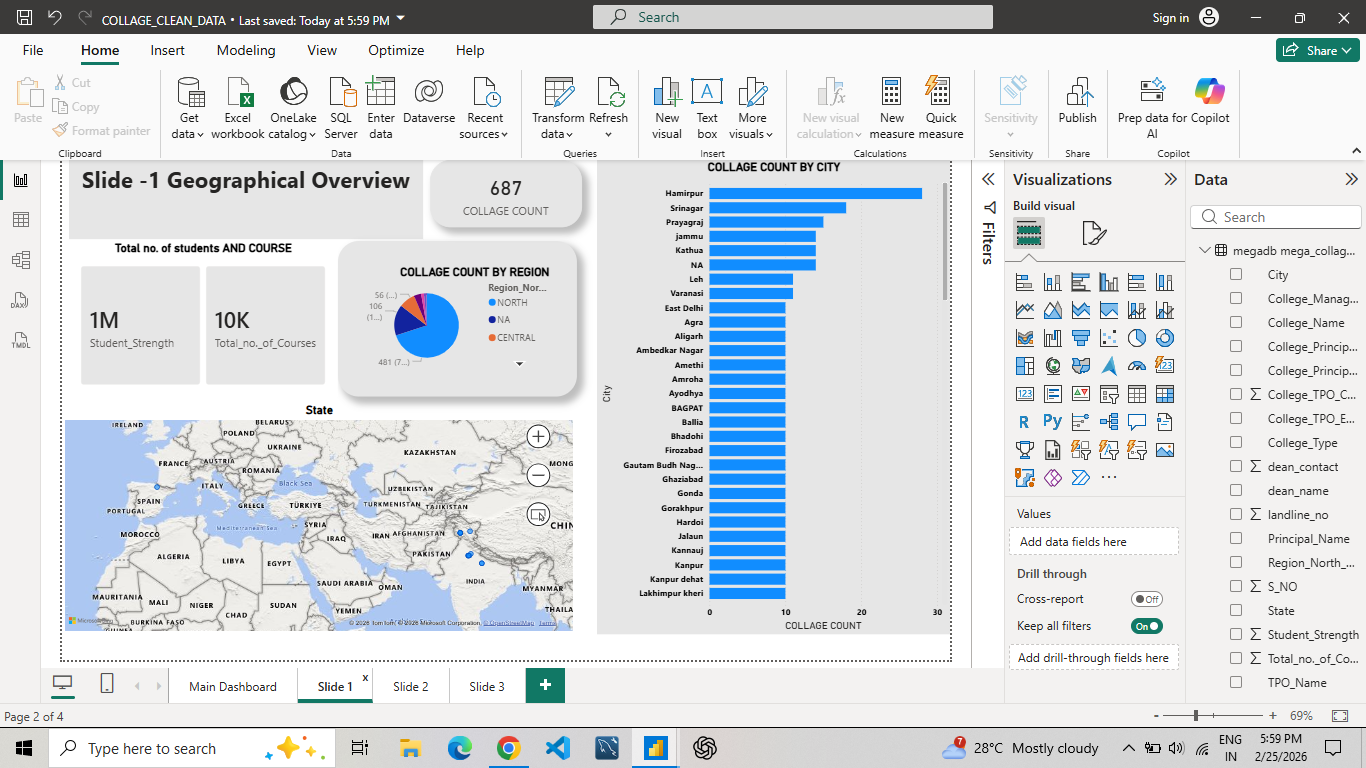

This screenshot's page, from the dashboard's own definition file:
{"tool":"powerbi","page":{"name":"Slide 1","canvas":[1280,720],"ordinal":1},"visuals":[{"type":"textbox","box":[10,0,510,114.3],"z":0},{"type":"barChart","title":"COLLAGE COUNT BY CITY ","fields":{"Category":["megadb mega_collage_data.City"],"Y":["CountNonNull(megadb mega_collage_data.College_Name)"]},"box":[770,0,510,682.9],"z":1000},{"type":"map","fields":{"Category":["megadb mega_collage_data.State"]},"box":[0,350,741.4,332.9],"z":2000},{"type":"pieChart","title":"COLLAGE COUNT BY REGION","fields":{"Category":["megadb mega_collage_data.Region_North_South_East_West_Central"],"Y":["CountNonNull(megadb mega_collage_data.College_Name)"]},"box":[397.1,117.1,344.3,224.3],"z":3000},{"type":"cardVisual","title":"Total no. of students AND COURSE","fields":{"Data":["Sum(megadb mega_collage_data.Student_Strength)","Sum(megadb mega_collage_data.Total_no._of_Courses)"]},"box":[10,117,387,224],"z":4000},{"type":"card","fields":{"Values":["CountNonNull(megadb mega_collage_data.College_Name)"]},"box":[530,0,218.6,97.1],"z":5000}]}

Visuals, with their boxes on the page's 1280x720 design canvas (x1, y1, x2, y2). These are canvas units, not pixel positions in the 1366x768 screenshot, which may show the page scaled, cropped or inside an application window:
textbox: (10,0,520,114)
"COLLAGE COUNT BY CITY " barChart: (770,0,1280,683)
map - megadb mega_collage_data.State: (0,350,741,683)
"COLLAGE COUNT BY REGION" pieChart: (397,117,741,341)
"Total no. of students AND COURSE" cardVisual: (10,117,397,341)
card - CountNonNull(megadb mega_collage_data.College_Name): (530,0,749,97)
